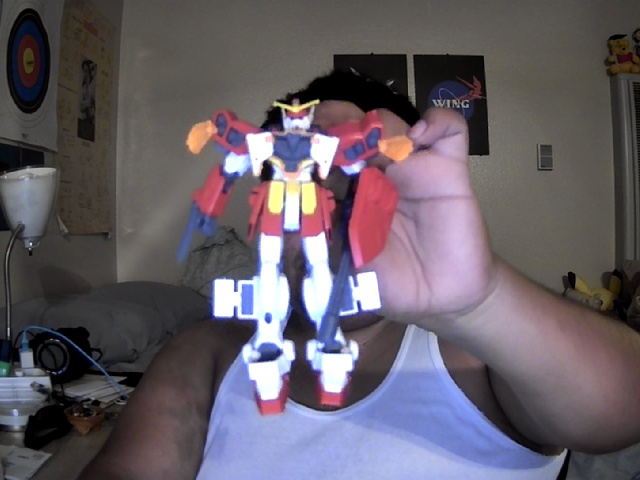Deatharms: (175, 97, 415, 418)
